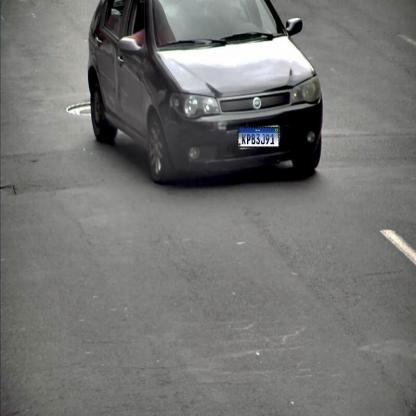PlacaM: (238, 127, 279, 148)
